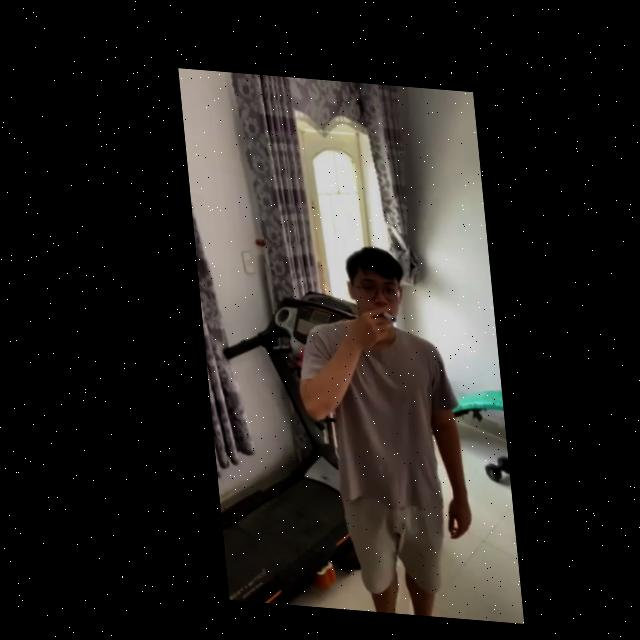cigarette: (375, 304, 391, 316)
